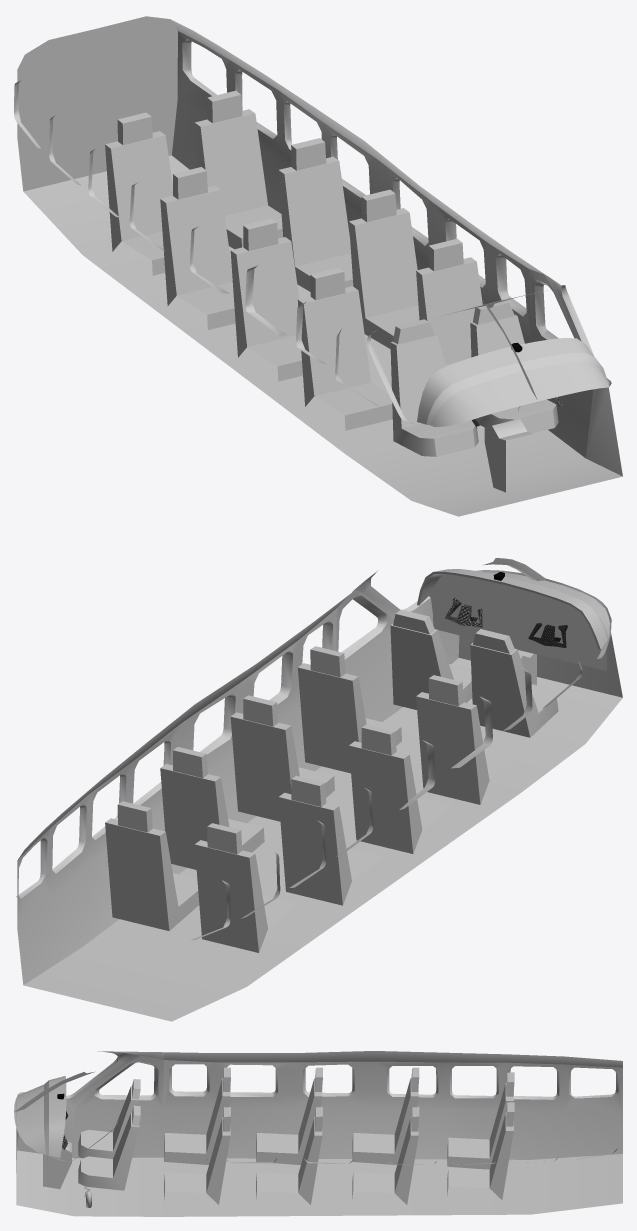
File: 208B_GRAND_CARAVAN_EX_INTERIOR_LOD04.gltf
3 views of the same model, one above another, from view 1: azimuth 30°, elevation 25°; view 2: azimuth 150°, elevation 25°; view 3: azimuth 270°, elevation 25° (orthographic). The views are drawn at different scales.
Parts seen in each view (by area): view 1: MAIN_PANEL; view 2: MAIN_PANEL; view 3: MAIN_PANEL.
Part boxes in pixels (x1,y1,x2,y2): MAIN_PANEL: (14, 16, 622, 516); MAIN_PANEL: (16, 558, 622, 1021); MAIN_PANEL: (14, 1051, 622, 1216).
Size of the model in its own units: 1.77 by 1.36 by 6.42.
